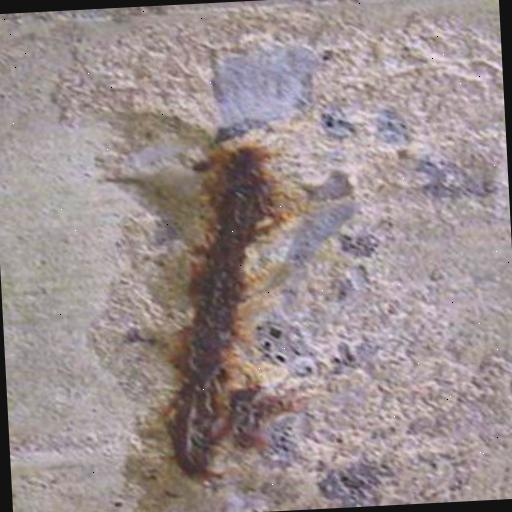spalling: (90, 76, 334, 489)
